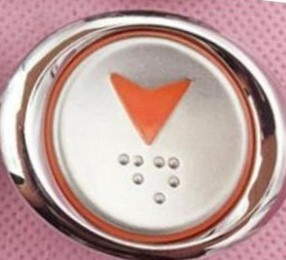Braille: (154, 155, 180, 205), (119, 152, 144, 203)
